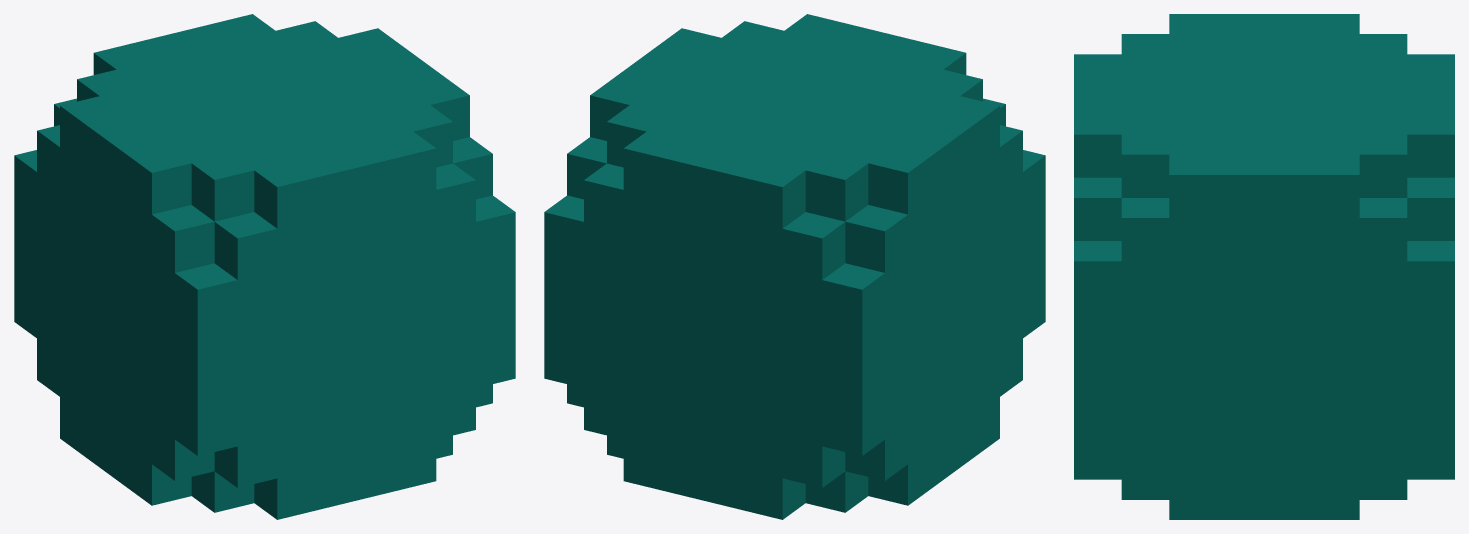
Rendered from green-leaves-block.glb.
The picture shows the model from 3 angles, left to right: view 1: azimuth 30°, elevation 25°; view 2: azimuth 150°, elevation 25°; view 3: azimuth 270°, elevation 25°; orthographic projection. The views are drawn at different scales.
Visible parts, largest first — view 1: generated(Clone); view 2: generated(Clone); view 3: generated(Clone).
Boxes of the visible parts, x1,y1,x2,y2 form: generated(Clone): [14, 14, 515, 519]; generated(Clone): [544, 14, 1045, 519]; generated(Clone): [1074, 14, 1454, 519].
Bounding box in the file's own units: 8 × 8 × 8.
Materials: 1 (1 with a texture image).
